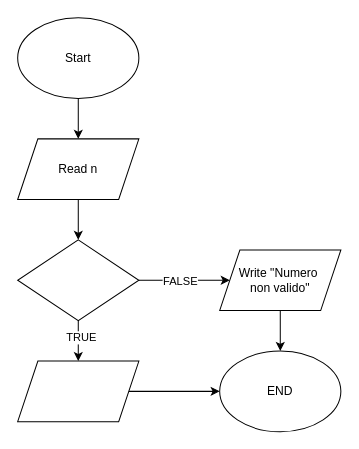
This 359x449 diagram has some shape labels left out. The box of each missing label's shape, as (x1, y1, x2, y2) in pixels:
n % 2 == 0 AND n > 10: (17, 239, 139, 321)
Write "Numero valido": (17, 360, 139, 422)
